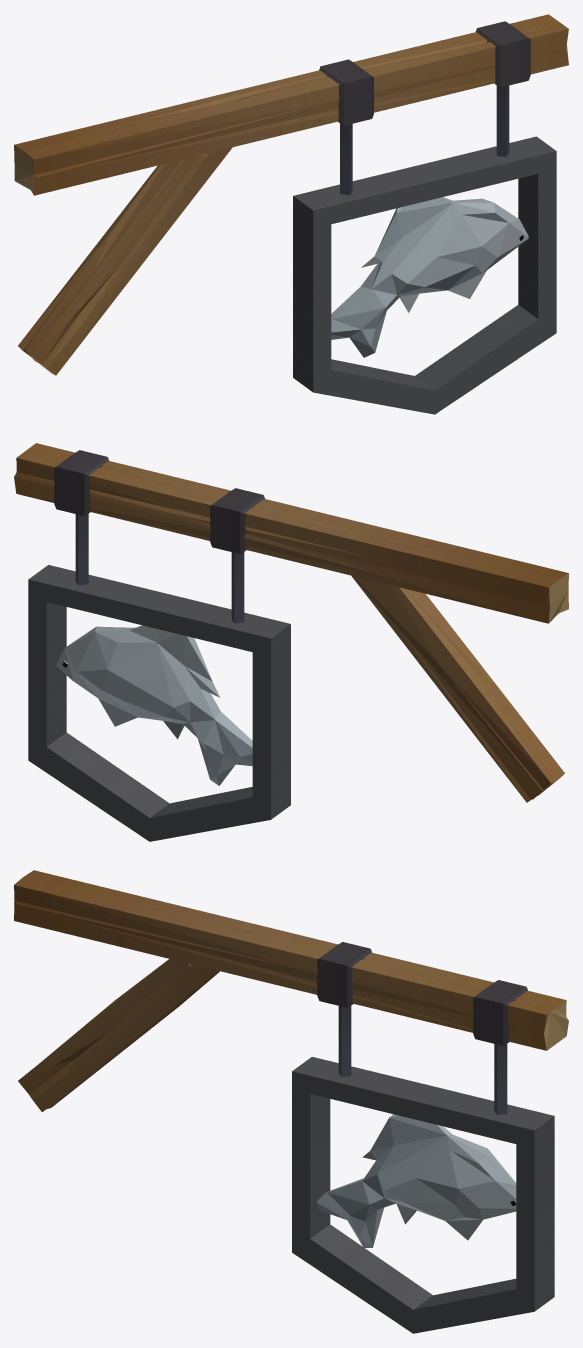
File: SignBoard_1.fbx
The picture shows the model from 3 angles, top to bottom: view 1: azimuth 30°, elevation 25°; view 2: azimuth 150°, elevation 25°; view 3: azimuth 330°, elevation 25°; orthographic projection.
Parts seen in each view (by area): view 1: polySurface10625; view 2: polySurface10625; view 3: polySurface10625.
Part boxes in pixels (left/top/right/bottom): polySurface10625: left=14, top=14, right=568, bottom=414; polySurface10625: left=14, top=443, right=568, bottom=841; polySurface10625: left=14, top=870, right=568, bottom=1333.
Bounding box in the file's own units: 309 × 195 × 23.29.
